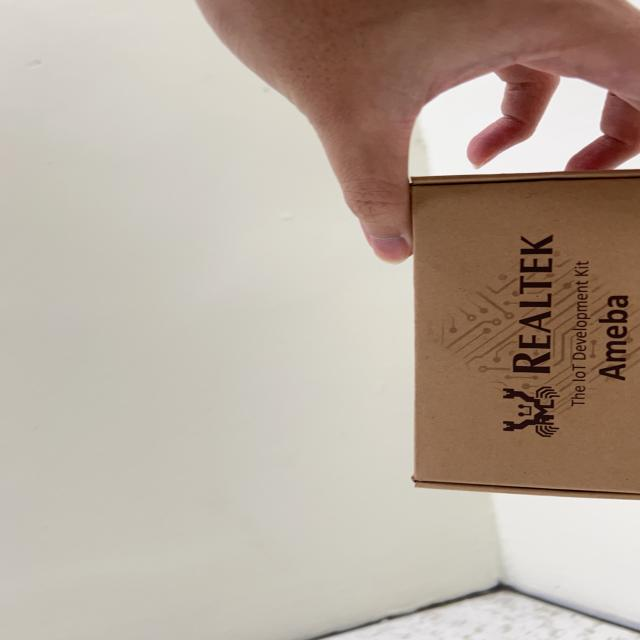box: (386, 148, 640, 530)
